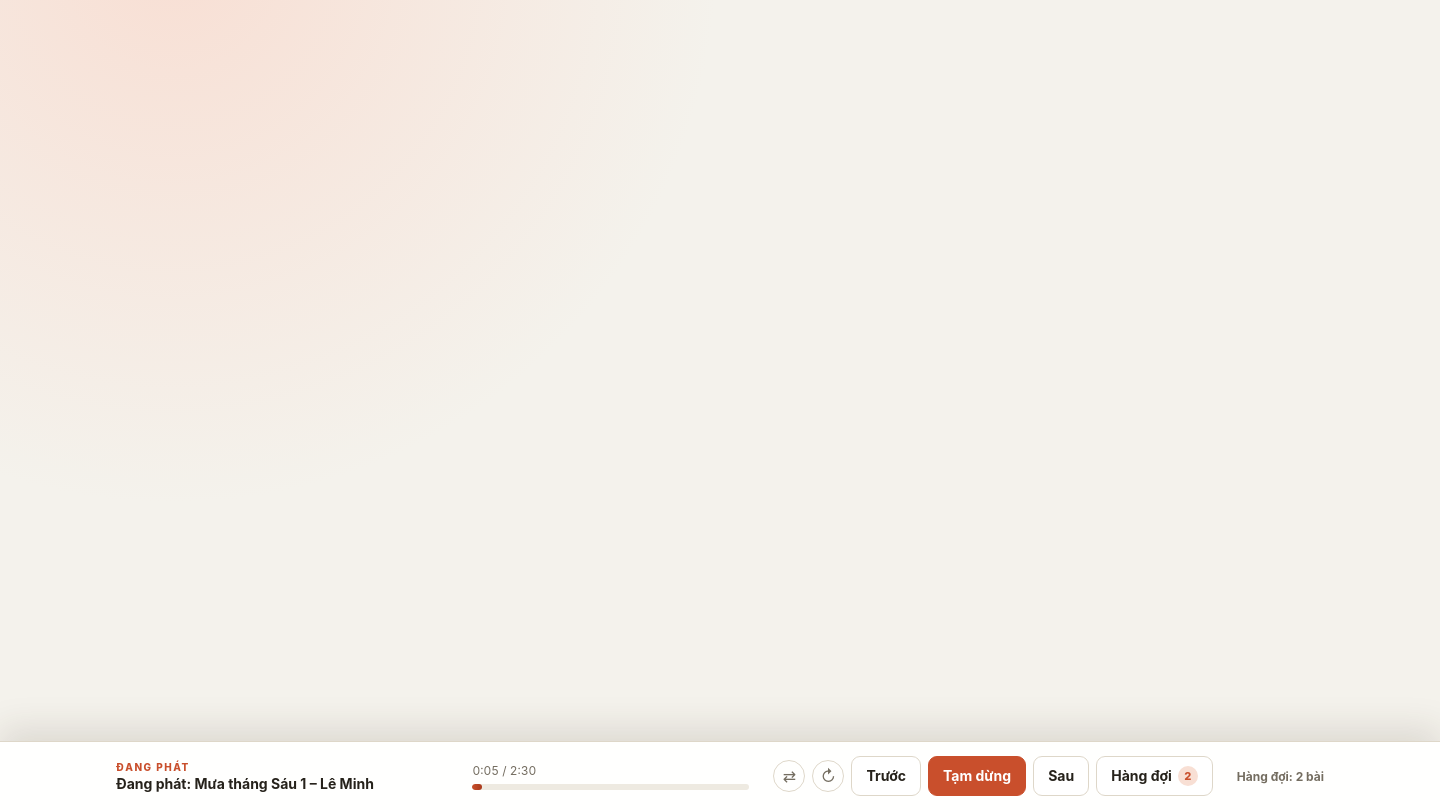
Scenario: PlayerBar › cập nhật thời gian mỗi giây, tạm dừng và chạy tiếp
This screenshot has width=1440, height=810.
Expected: the text "Đang phát: Mưa tháng Sáu 1 – Lê Minh" is shown, x1=116 y1=774 x2=374 y2=792
Expected: the text "Hàng đợi: 2 bài" is shown, x1=1237 y1=768 x2=1324 y2=784
Click the button "Tạm dừng" at (977,776), box x1=928 y1=756 x2=1026 y2=796
Wait 3000 ms
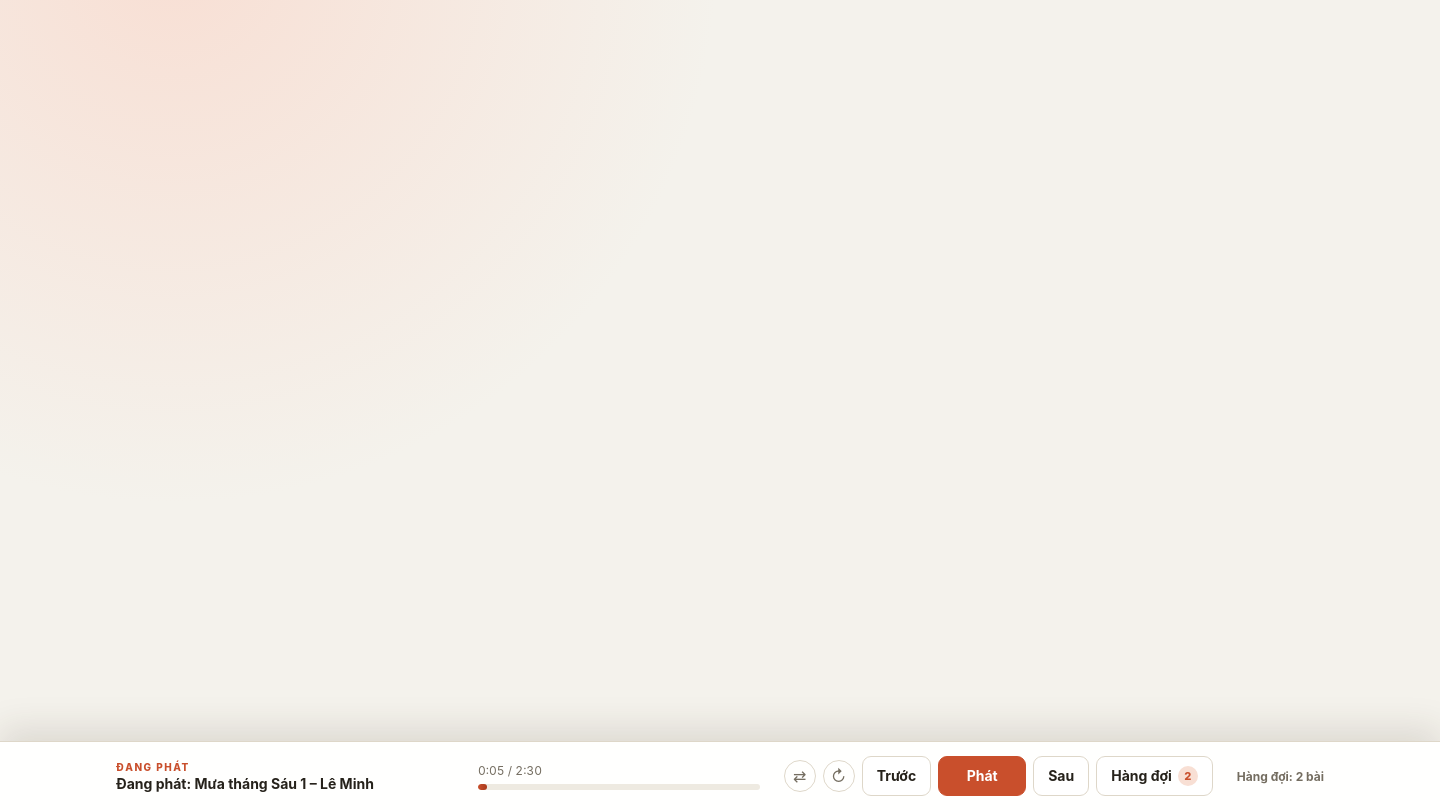
Expected: the text "0:05 / 2:30" is shown, x1=478 y1=762 x2=542 y2=778
Click the button "Phát" at (982,776), box x1=938 y1=756 x2=1026 y2=796
Wait 1000 ms
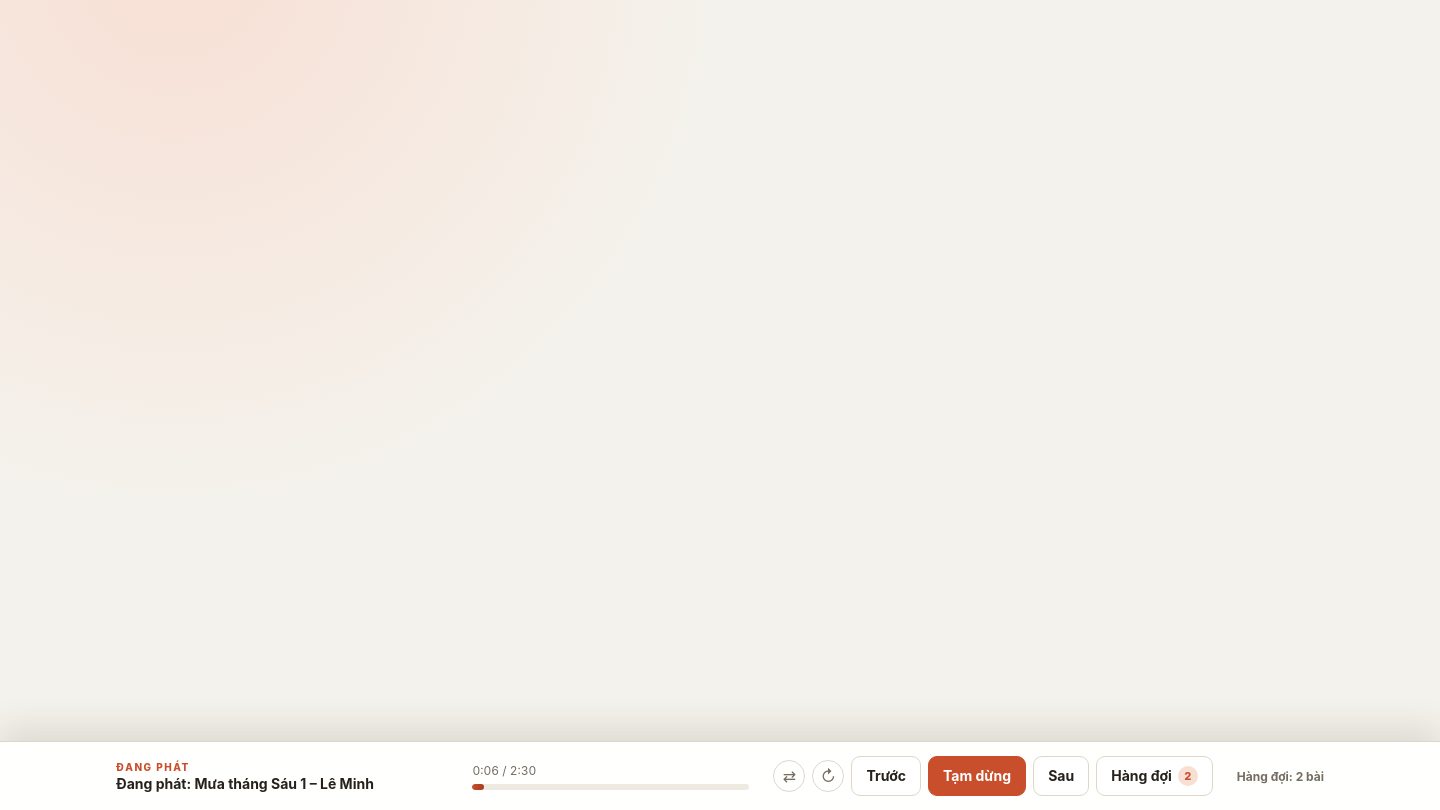
Result: the text "0:06 / 2:30" is shown at x1=472 y1=762 x2=536 y2=778
